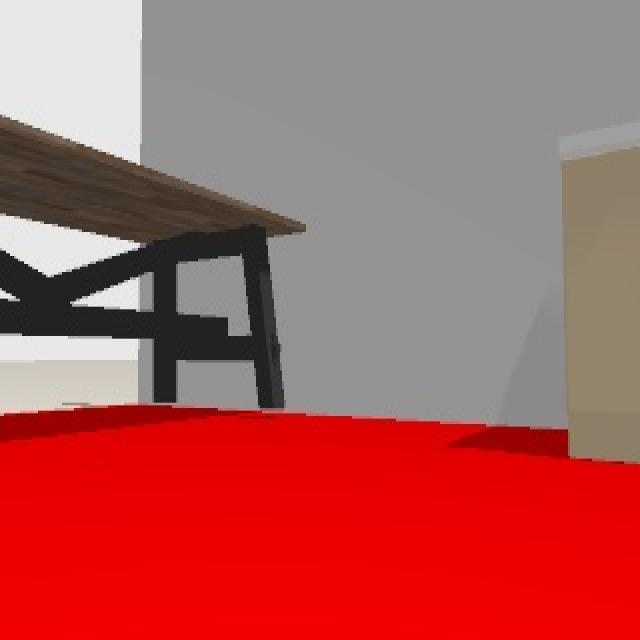dining: (2, 112, 304, 416)
